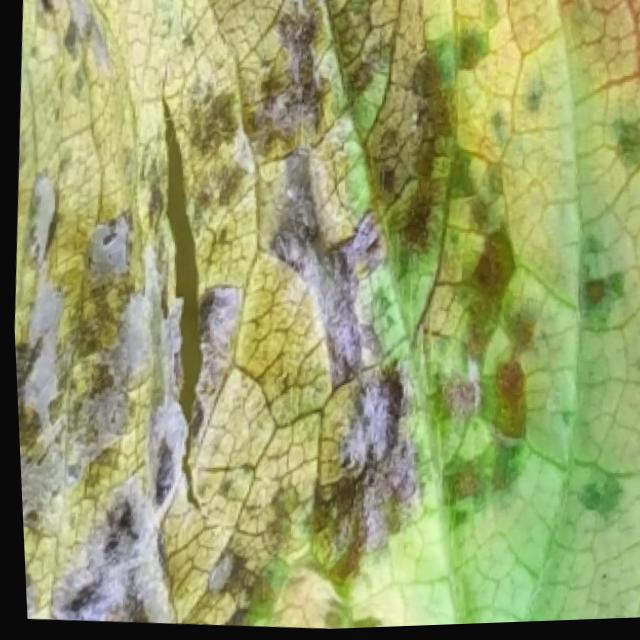Angular Leafspot: (11, 0, 640, 631)
